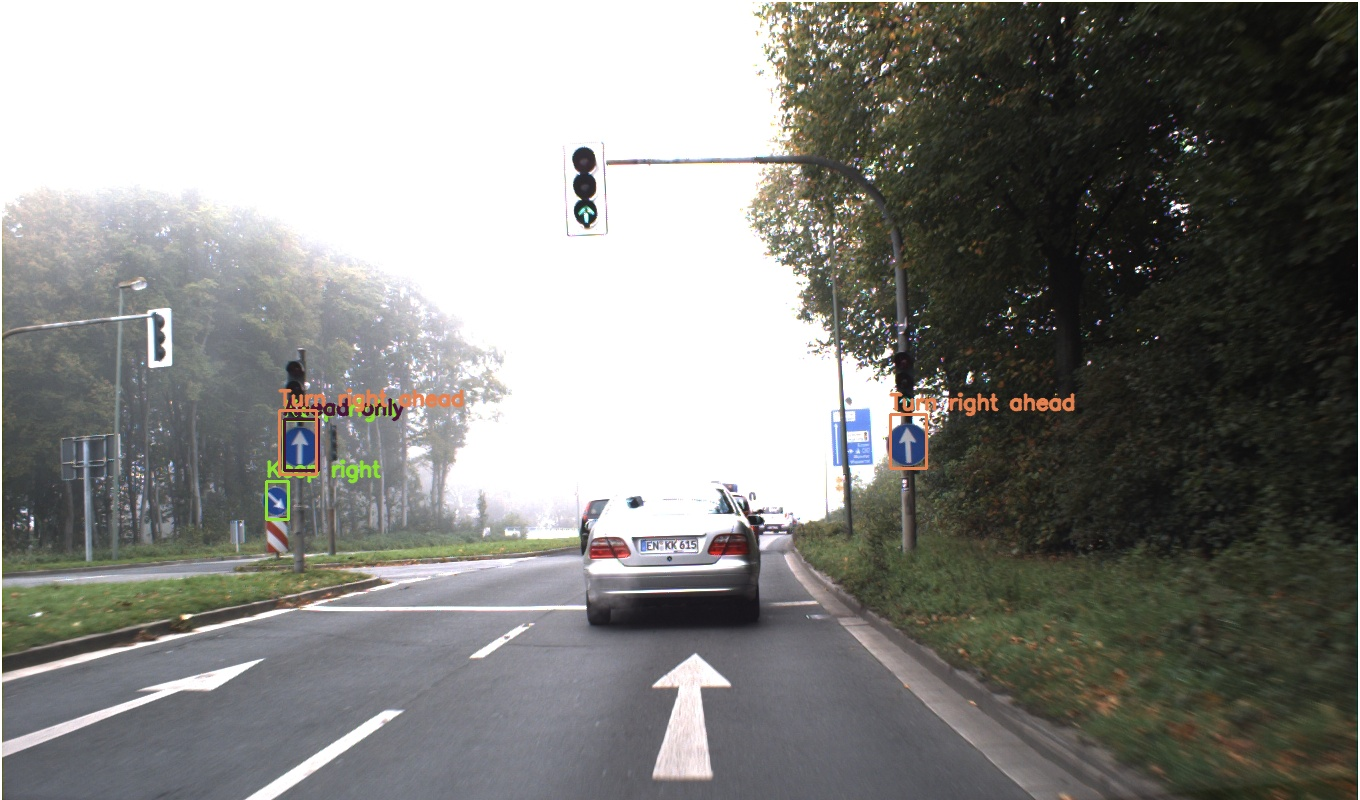Keep right: (247, 492, 331, 580)
